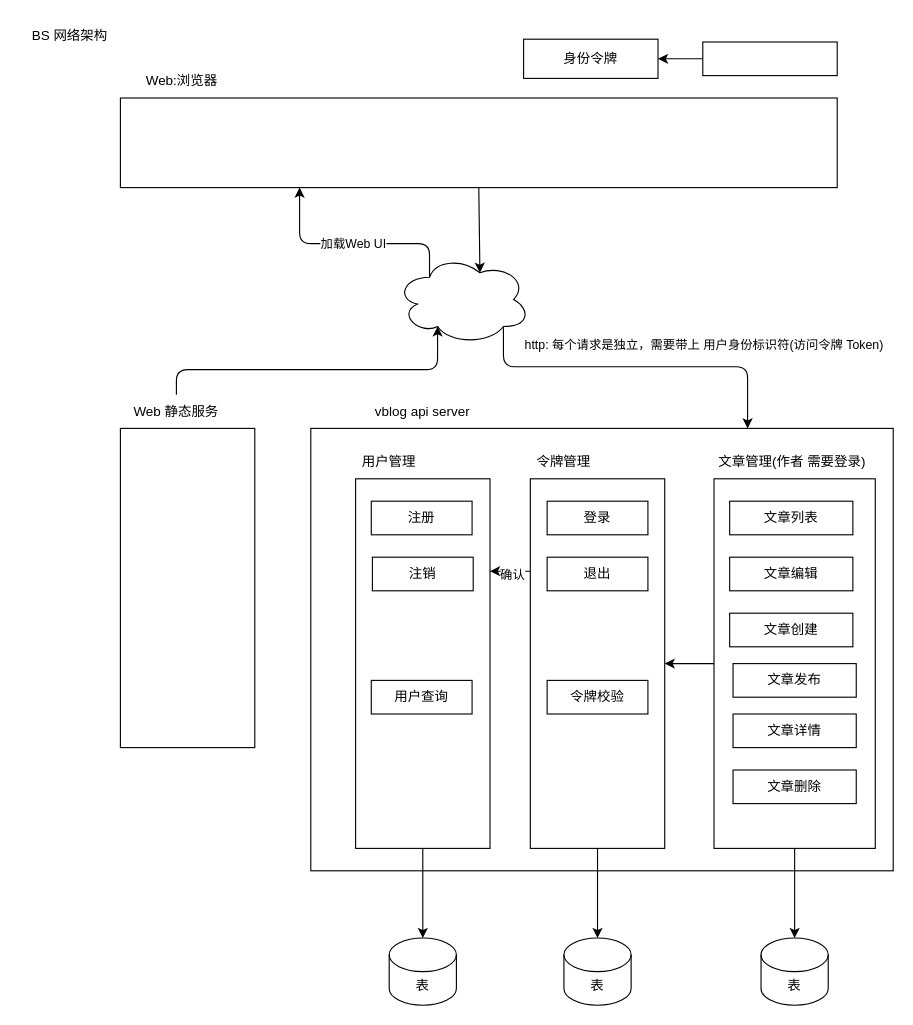
Image size: 913x1025. Some labels were removed from this diagram. The shapes that lost their labels are listed below. From the top down, each one's centre as x and y in pixels, then its label:
At (x=769, y=58): "用户/密码".
At (x=462, y=299): "网络".
